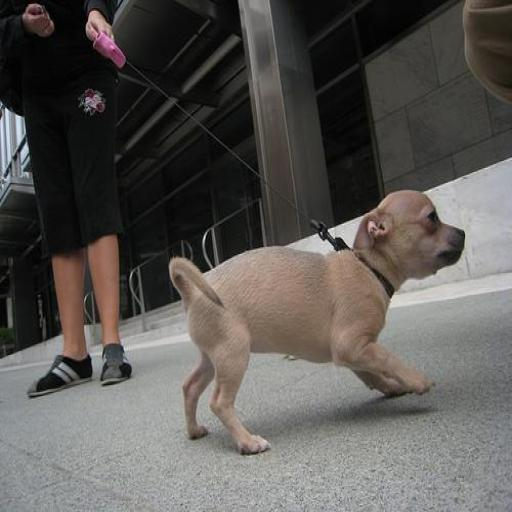dog_face: (361, 188, 464, 278)
